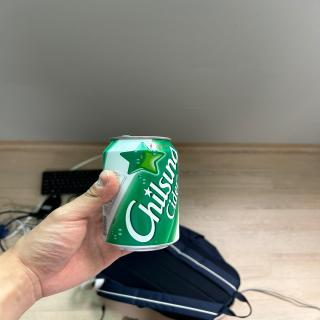cocacola: (100, 133, 183, 251)
